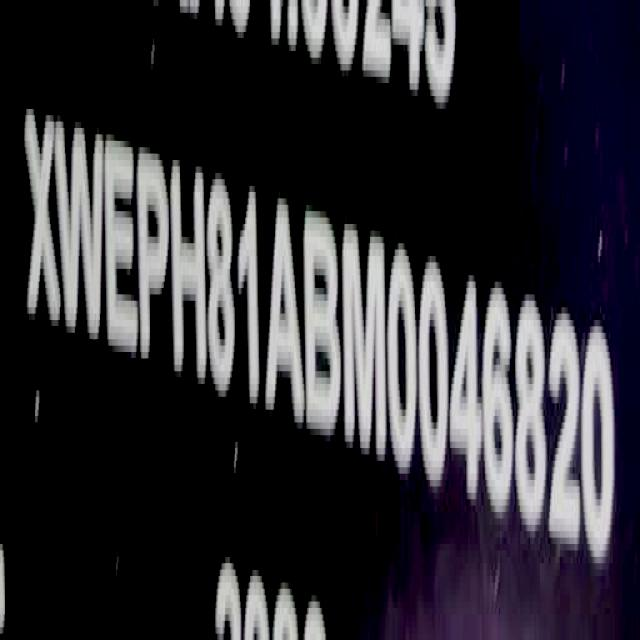0: (584, 324, 618, 566), (420, 253, 450, 498), (391, 236, 421, 481)
1: (239, 178, 261, 416)
2: (546, 310, 580, 556)
4: (451, 266, 483, 512)
6: (482, 275, 514, 520)
8: (515, 293, 548, 538), (208, 164, 236, 400)
A: (266, 189, 306, 433)
B: (302, 202, 343, 446)
E: (105, 130, 139, 365)
H: (168, 147, 208, 403)
M: (342, 216, 388, 471)
P: (137, 140, 170, 380)
W: (57, 109, 107, 357)
X: (23, 98, 61, 341)
